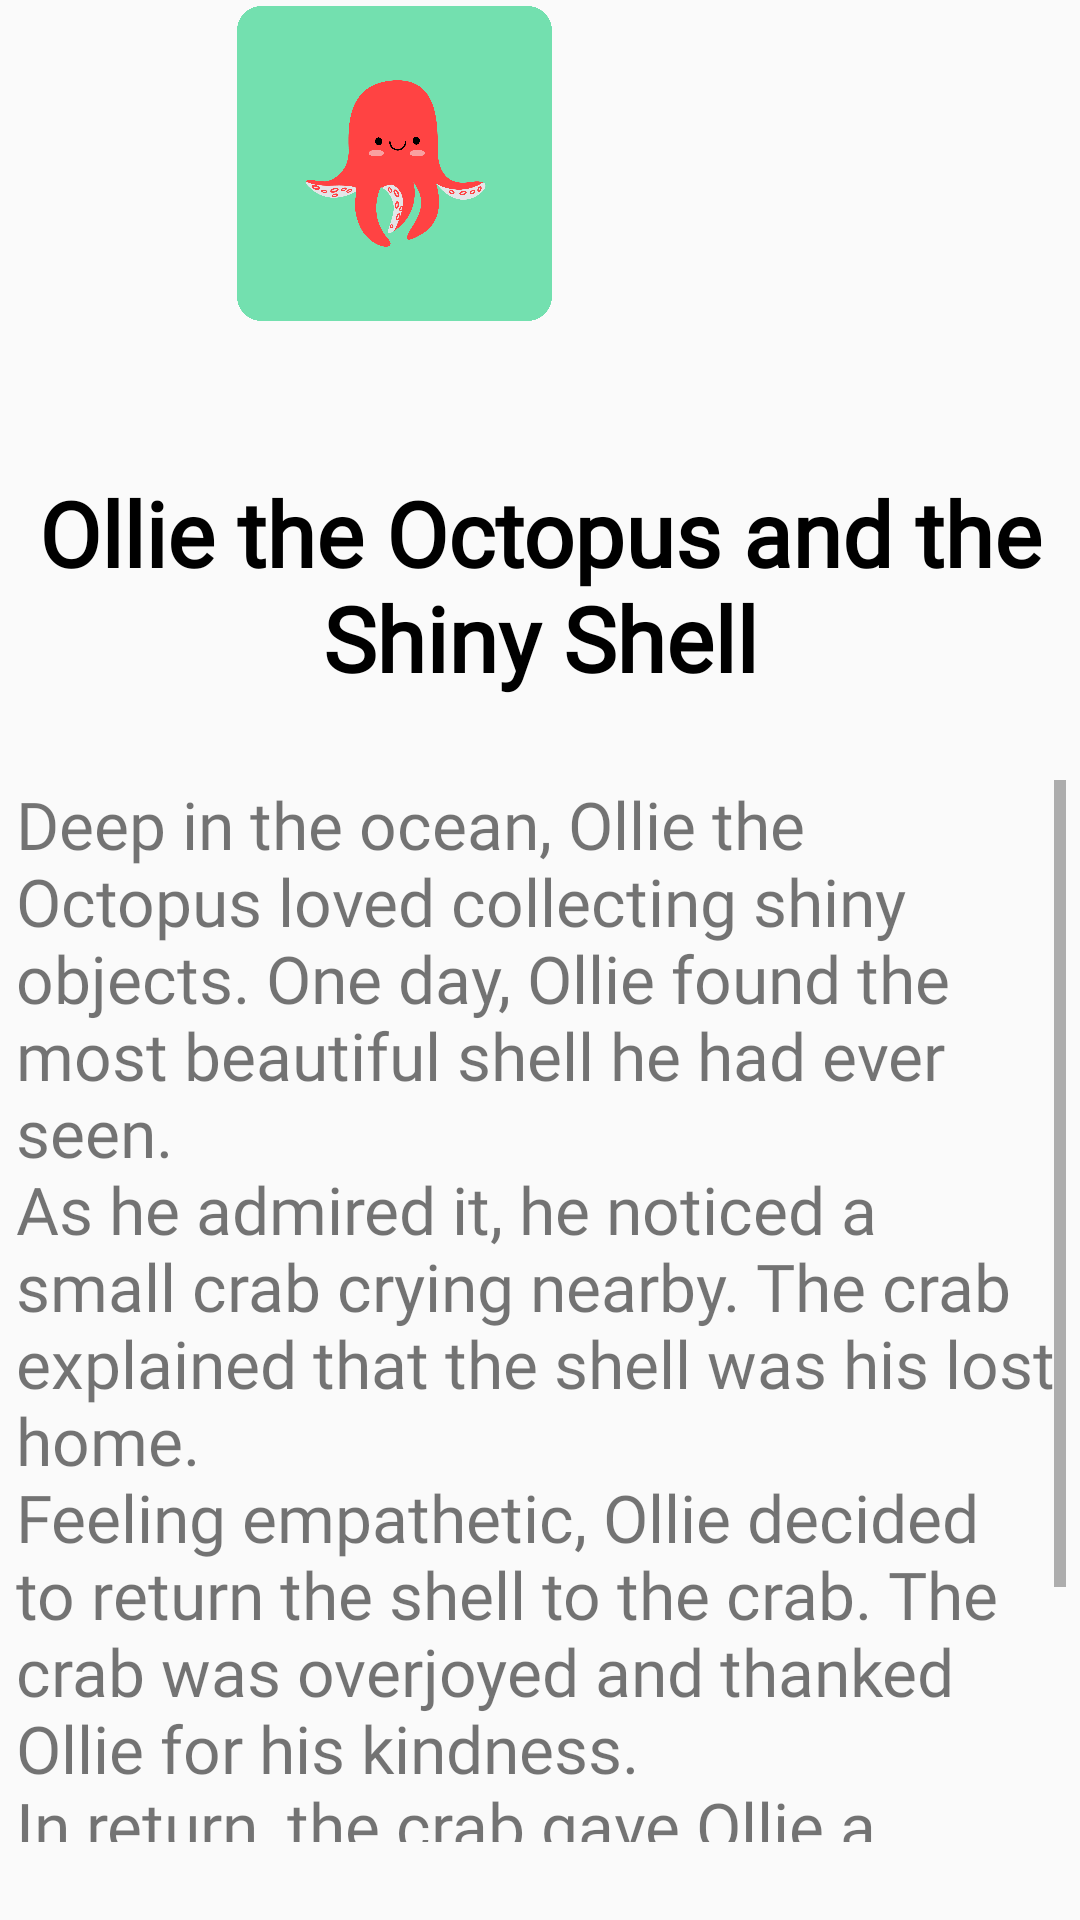

Named icons in this screenshot (1080 x 1920) and their centers, point (x, y):
pulpo: point (394, 163)
